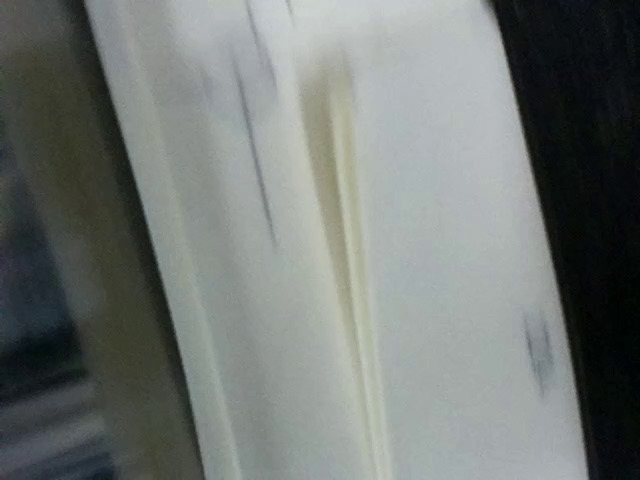not_sure: (166, 1, 287, 128)
